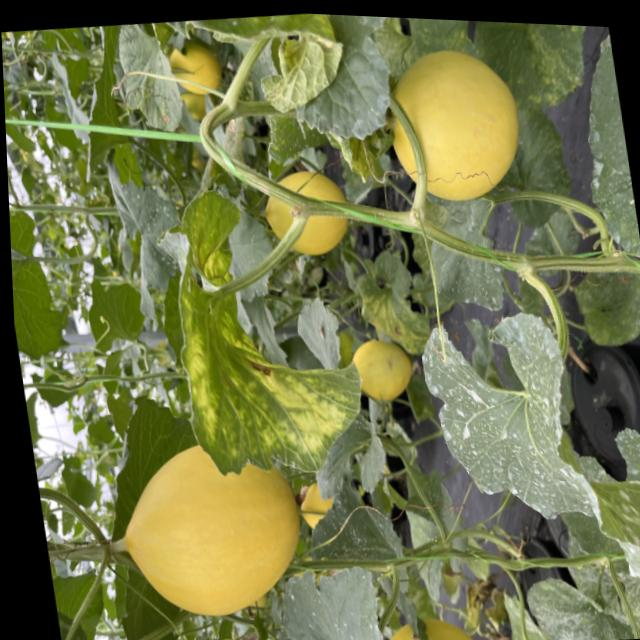downy mildew: (154, 176, 379, 490), (161, 7, 358, 131), (462, 21, 601, 122), (363, 16, 480, 92)
healthy: (83, 386, 228, 640), (59, 22, 144, 189), (9, 206, 69, 361)
powdery mildew: (407, 296, 640, 606), (560, 25, 640, 270), (100, 141, 196, 328), (413, 172, 515, 320), (271, 559, 417, 640), (299, 483, 402, 589)
